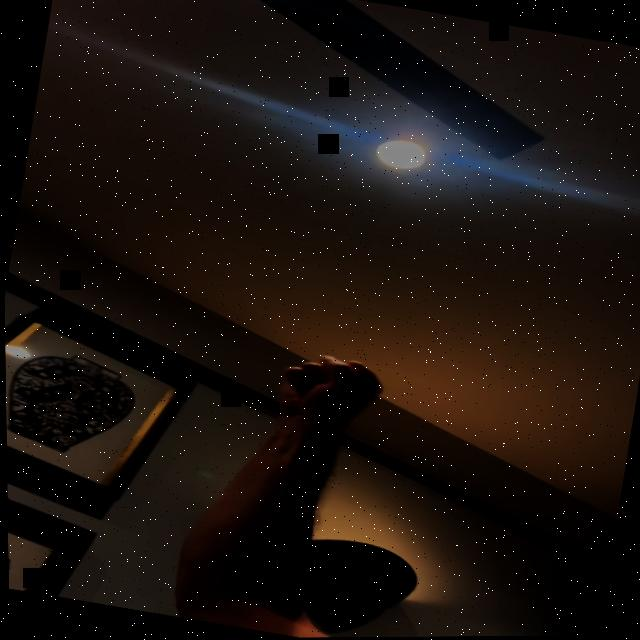Rock: (269, 345, 387, 433)
